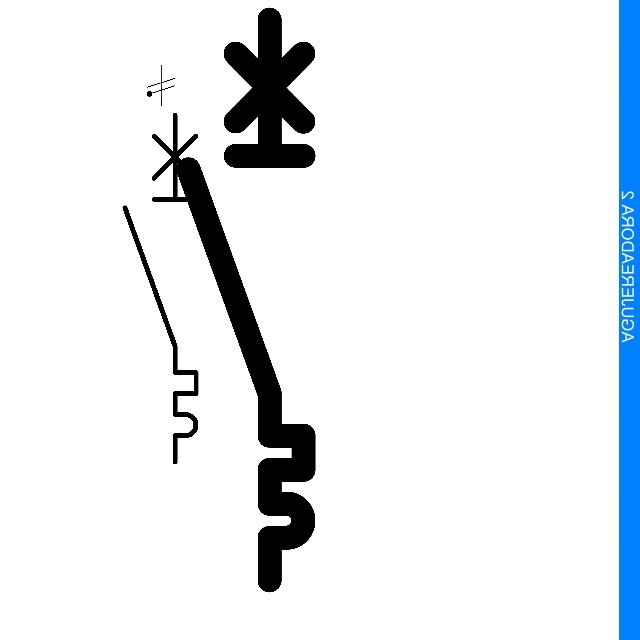interruptor_termomagnetico: (174, 5, 318, 595), (116, 106, 205, 471)
